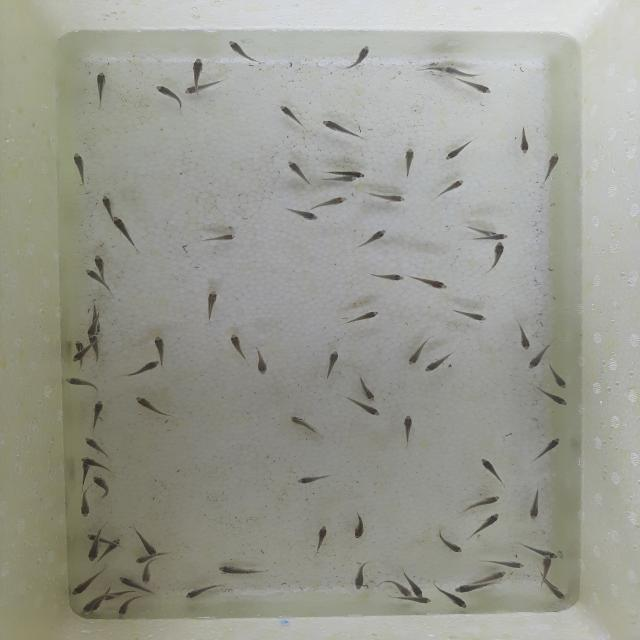fingerling: (320, 118, 370, 144), (66, 150, 90, 188), (419, 352, 458, 375), (286, 414, 325, 437), (133, 396, 173, 418), (319, 348, 346, 378), (431, 532, 466, 554), (535, 436, 562, 463), (224, 40, 254, 64), (182, 583, 222, 601), (478, 456, 504, 483), (92, 69, 112, 104), (524, 541, 559, 561), (227, 334, 250, 364), (111, 216, 132, 248), (134, 528, 158, 556), (312, 522, 334, 552), (87, 397, 108, 428), (347, 46, 373, 71), (485, 241, 509, 268), (457, 496, 503, 510), (69, 576, 98, 598), (205, 229, 242, 246), (525, 490, 545, 521), (64, 375, 100, 392), (280, 103, 303, 129), (400, 145, 421, 173), (289, 206, 321, 224), (349, 400, 385, 416), (411, 276, 452, 290), (429, 593, 467, 608), (455, 80, 493, 95), (152, 87, 185, 104), (541, 150, 561, 178), (345, 310, 382, 325), (287, 160, 310, 184), (407, 338, 425, 368), (216, 564, 261, 576), (515, 128, 534, 156), (358, 373, 377, 401), (526, 347, 547, 372), (182, 83, 222, 96), (307, 196, 354, 207), (359, 228, 391, 244), (354, 561, 371, 591), (381, 579, 411, 596), (404, 572, 426, 595), (443, 143, 471, 161), (186, 57, 206, 82), (476, 512, 501, 532), (539, 391, 572, 406), (115, 597, 137, 619), (80, 490, 96, 520), (440, 178, 468, 195), (296, 473, 332, 486), (102, 538, 123, 560), (544, 584, 568, 603), (514, 324, 532, 349), (117, 575, 147, 590), (482, 558, 526, 568), (403, 413, 417, 444), (84, 436, 108, 454), (477, 569, 510, 582), (97, 193, 114, 218), (155, 336, 169, 366), (253, 346, 268, 374), (471, 233, 512, 243), (537, 556, 554, 580), (552, 365, 567, 392), (94, 476, 112, 498), (329, 168, 367, 178), (368, 272, 406, 282), (91, 252, 109, 273), (80, 456, 111, 468), (88, 267, 104, 290), (133, 361, 159, 375), (377, 192, 407, 204), (458, 310, 488, 322), (354, 513, 369, 537), (442, 66, 478, 76), (392, 597, 434, 605), (87, 318, 102, 338), (84, 592, 99, 612), (88, 541, 102, 561), (206, 289, 217, 314), (454, 584, 482, 593), (89, 338, 101, 358), (87, 531, 107, 543), (142, 560, 151, 585), (326, 176, 362, 182), (134, 555, 156, 564), (70, 354, 89, 363), (75, 341, 86, 351)
